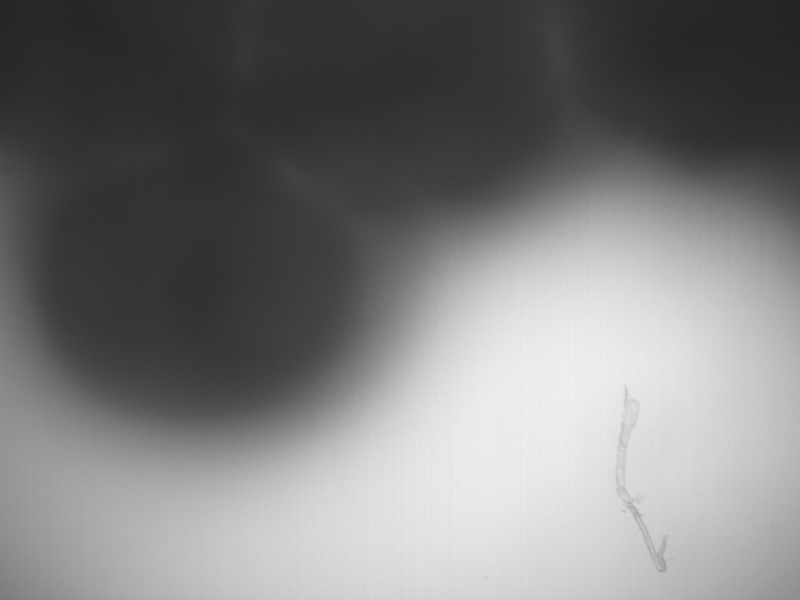bead: (29, 138, 374, 420), (239, 1, 576, 219), (1, 1, 256, 172), (567, 1, 800, 163)
fiber: (612, 383, 670, 580)
